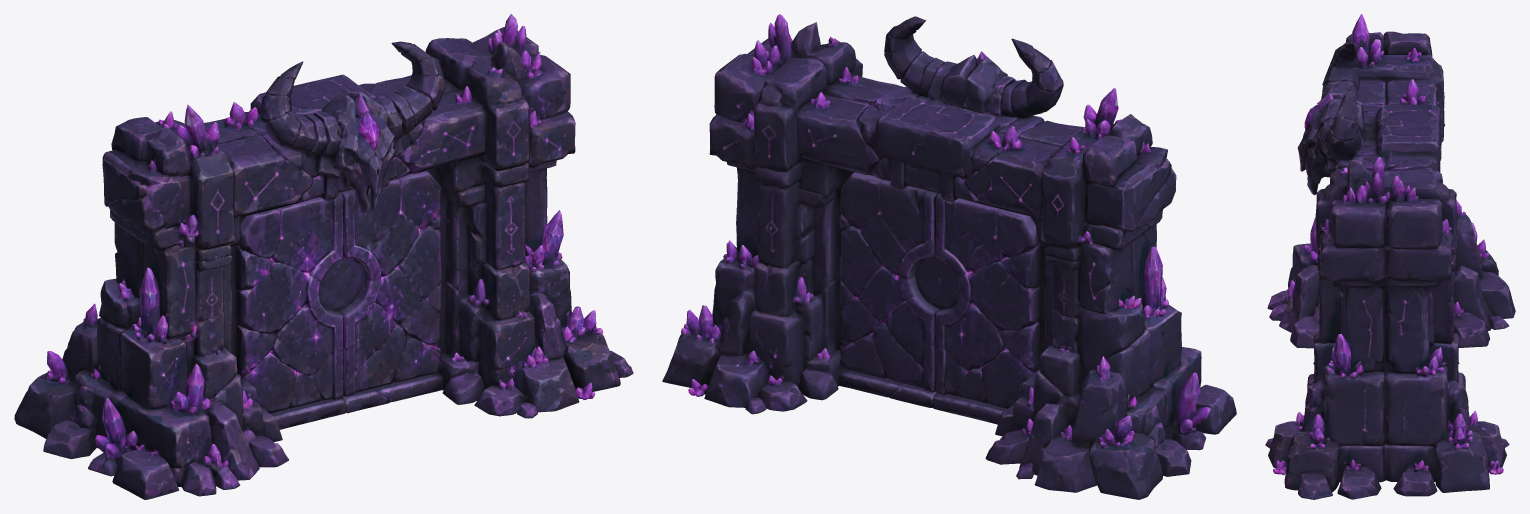
Rendered from boss_door_starfall.glb.
3 renders of one model, left to right at view 1: azimuth 30°, elevation 25°; view 2: azimuth 150°, elevation 25°; view 3: azimuth 270°, elevation 25°, orthographic. The views are drawn at different scales.
Parts seen in each view (by area): view 1: tripo_node_8f138703-e385-4153-bedb-acdb525fd05a; view 2: tripo_node_8f138703-e385-4153-bedb-acdb525fd05a; view 3: tripo_node_8f138703-e385-4153-bedb-acdb525fd05a.
Boxes of the visible parts, left/top/right/bottom form: tripo_node_8f138703-e385-4153-bedb-acdb525fd05a: left=14, top=14, right=633, bottom=499; tripo_node_8f138703-e385-4153-bedb-acdb525fd05a: left=662, top=14, right=1236, bottom=499; tripo_node_8f138703-e385-4153-bedb-acdb525fd05a: left=1265, top=14, right=1515, bottom=499.
Size of the model in its own units: 1 by 0.6622 by 0.4641.
Materials: 1 (1 with a texture image).
